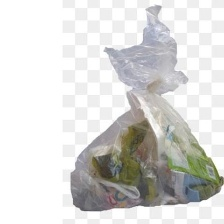plastic_bag: (63, 2, 223, 216)
